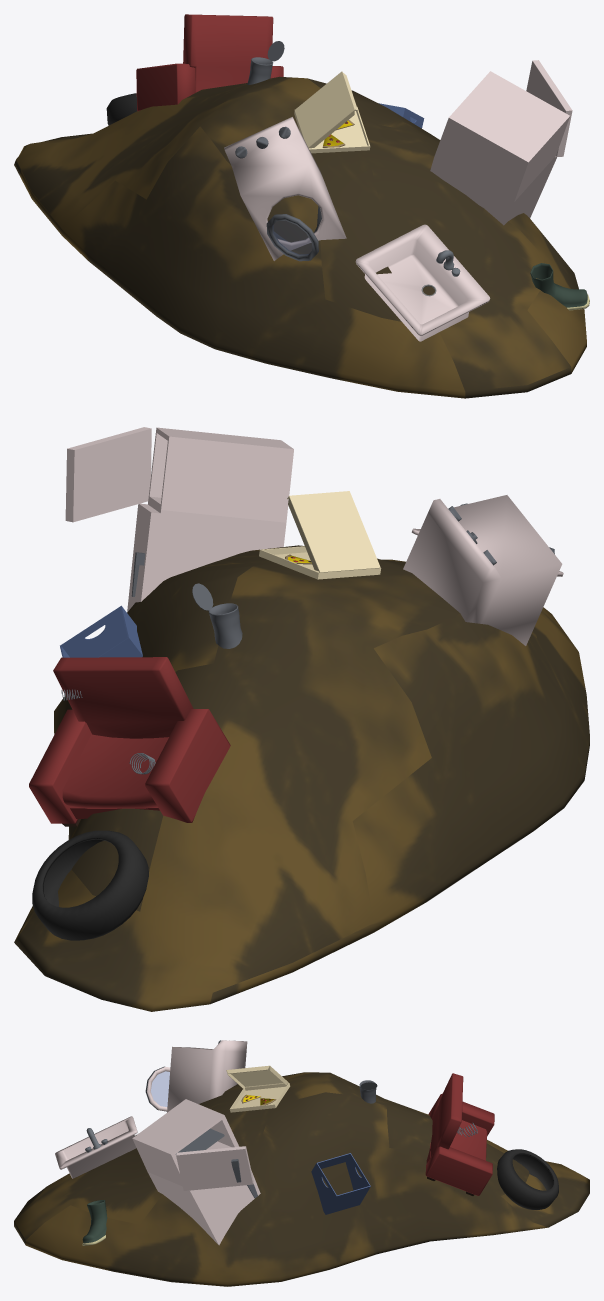
Rendered from scrap pile.fbx.
The picture shows the model from 3 angles, top to bottom: view 1: azimuth 30°, elevation 25°; view 2: azimuth 150°, elevation 25°; view 3: azimuth 270°, elevation 25°; orthographic projection. The views are drawn at different scales.
Parts seen in each view (by area): view 1: Cube.021; view 2: Cube.021; view 3: Cube.021.
Boxes of the visible parts, <box> form: Cube.021: <box>14,14,589,398</box>; Cube.021: <box>14,427,589,1011</box>; Cube.021: <box>14,1040,589,1286</box>.
Size of the model in its own units: 747 by 406 by 1337.
